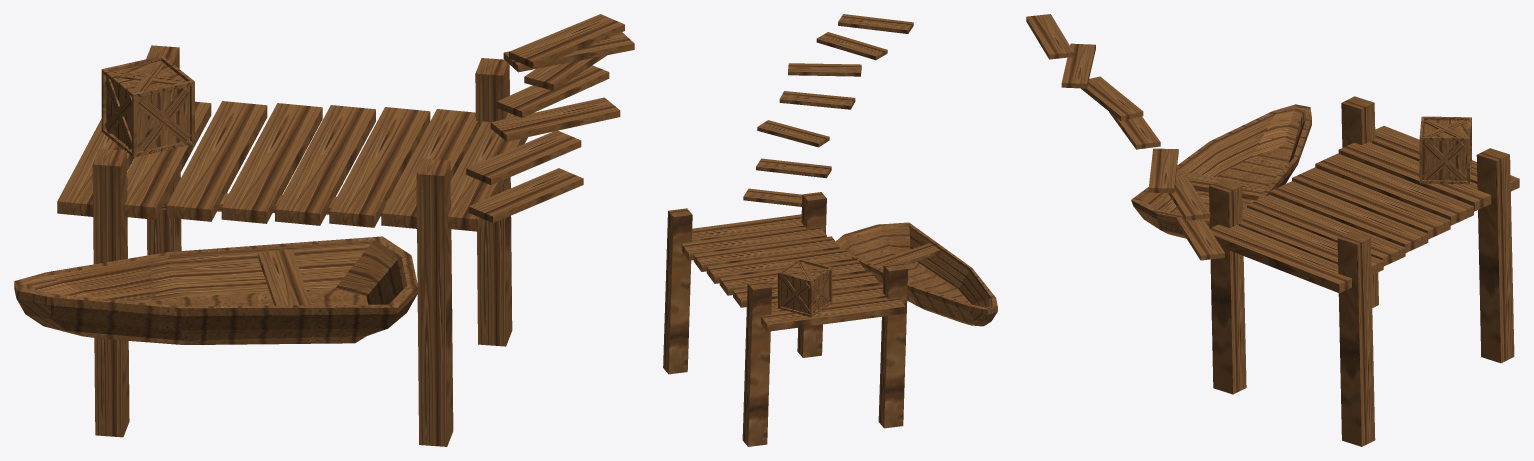
File: dock.fbx
The picture shows the model from 3 angles, left to right: view 1: azimuth 30°, elevation 25°; view 2: azimuth 150°, elevation 25°; view 3: azimuth 270°, elevation 25°; orthographic projection. The views are drawn at different scales.
Parts seen in each view (by area): view 1: pCube37; view 2: pCube37; view 3: pCube37.
Part boxes in pixels (x1=…): pCube37: x1=14, y1=14, x2=634, y2=446; pCube37: x1=663, y1=14, x2=997, y2=446; pCube37: x1=1026, y1=14, x2=1519, y2=446.
Bounding box in the file's own units: 1.19 × 1.02 × 1.28.
Materials: 2 (2 with a texture image).
